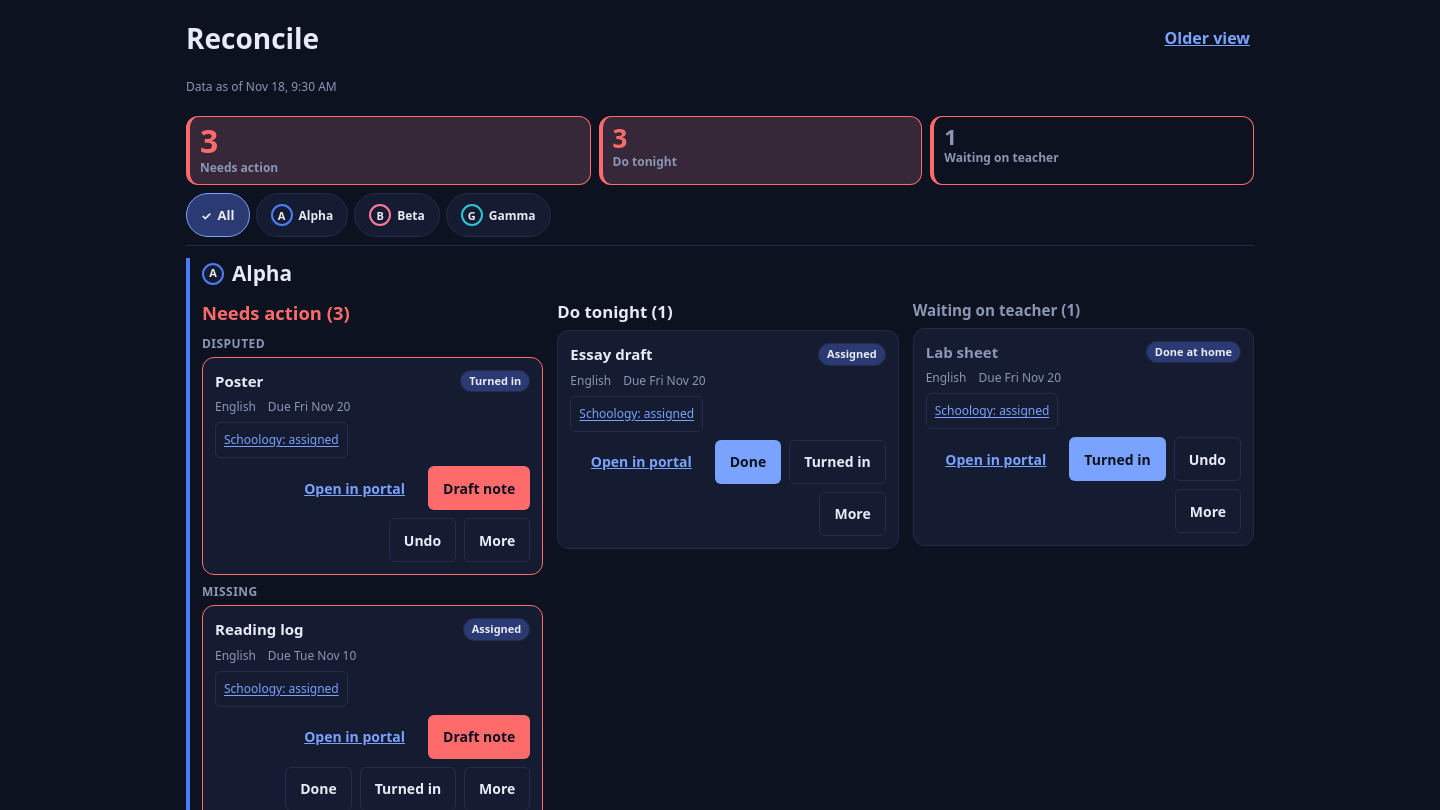
"Discard" records discarded and closes
Expected: the heading "Alpha" is shown, [232,258,292,289]
Click the button with aria-label "Draft note for Poster (English, Alpha)" at (479, 488), box [428,466,530,510]
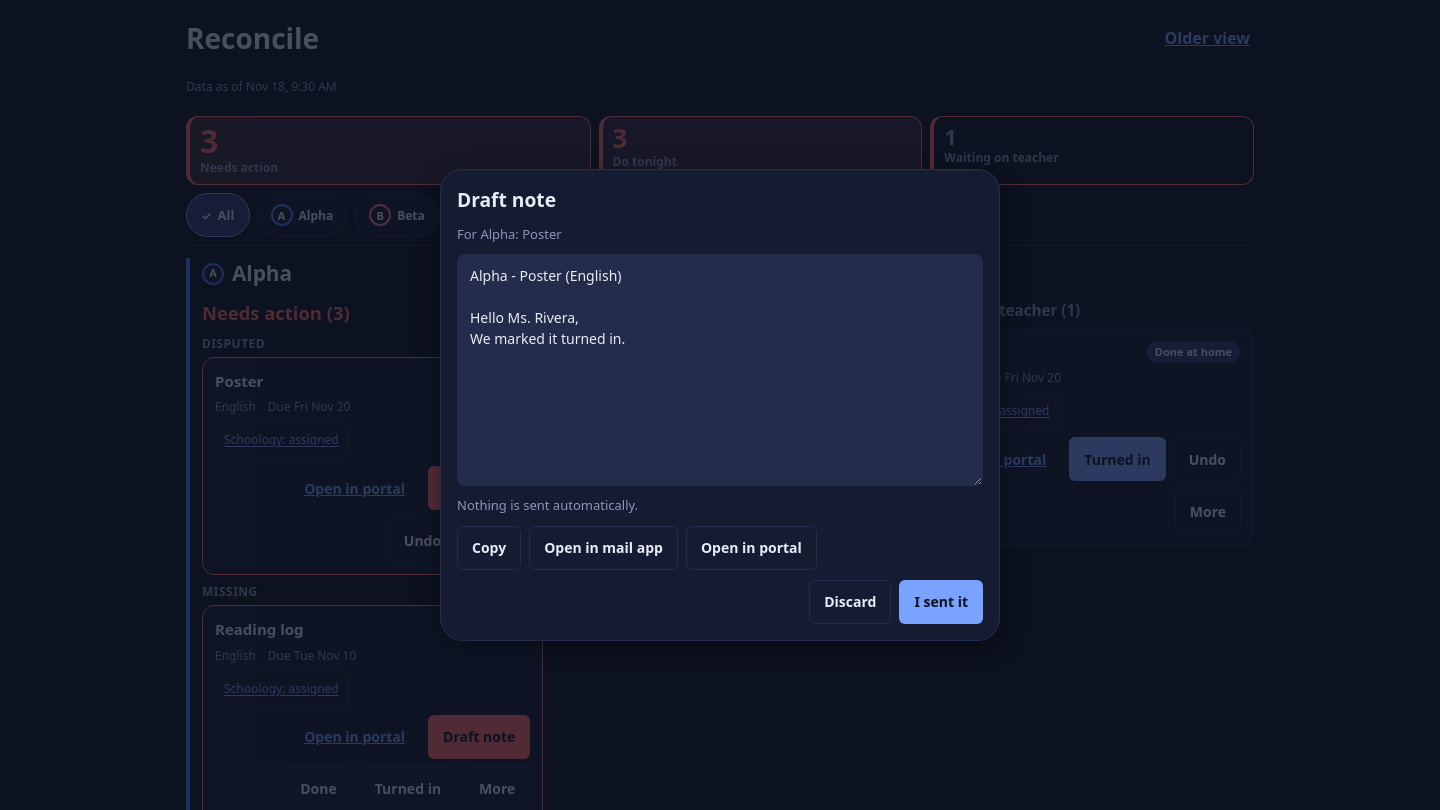
Click the button "Discard" at (850, 602), box [809,580,891,624]
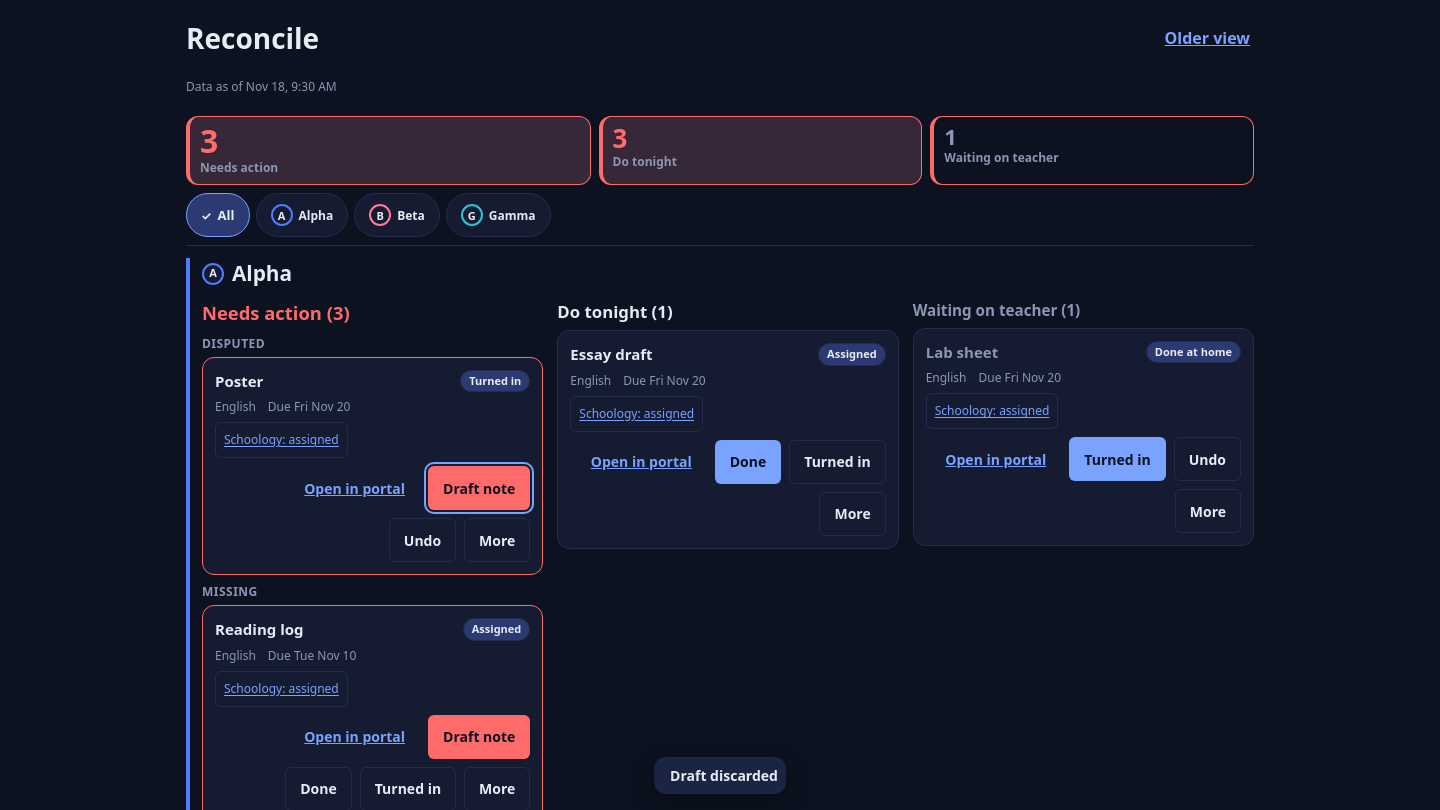
Now the dialog is gone
